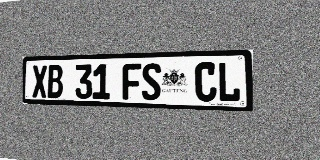1: (92, 64, 110, 99)
3: (75, 64, 92, 99)
B: (47, 65, 63, 98)
C: (195, 62, 217, 102)
F: (123, 63, 141, 100)
L: (218, 61, 240, 102)
S: (142, 63, 161, 101)
X: (32, 65, 47, 98)
